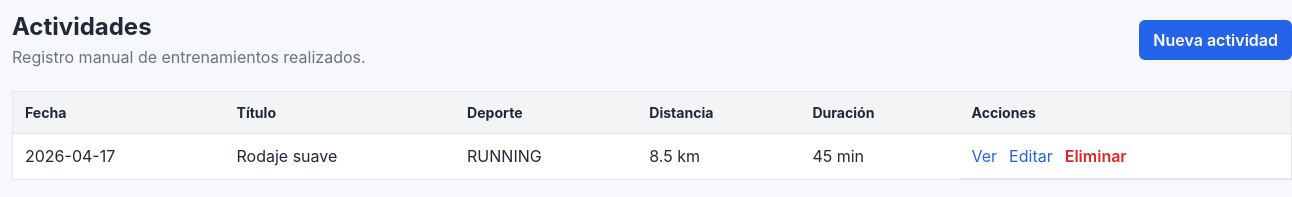
Test: ActivitiesPage › deletes an activity after user confirmation and reloads the list
Expected: the text "Rodaje suave" is shown, [224,134,455,180]
Click the button "Eliminar" at (1096, 156), box [1065,146,1127,166]
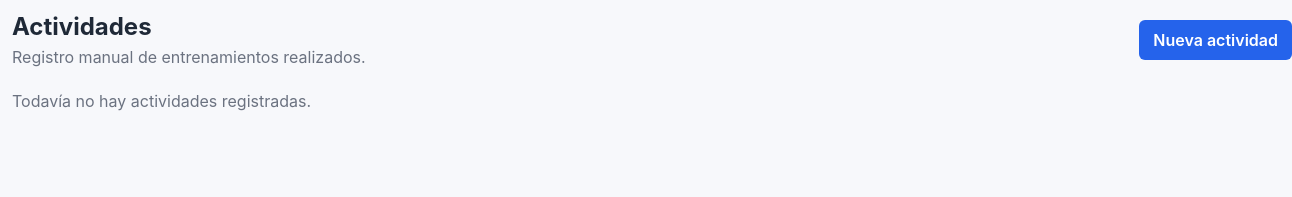
Expected: the text "Todavía no hay actividades registradas." is shown, [12,91,311,111]
